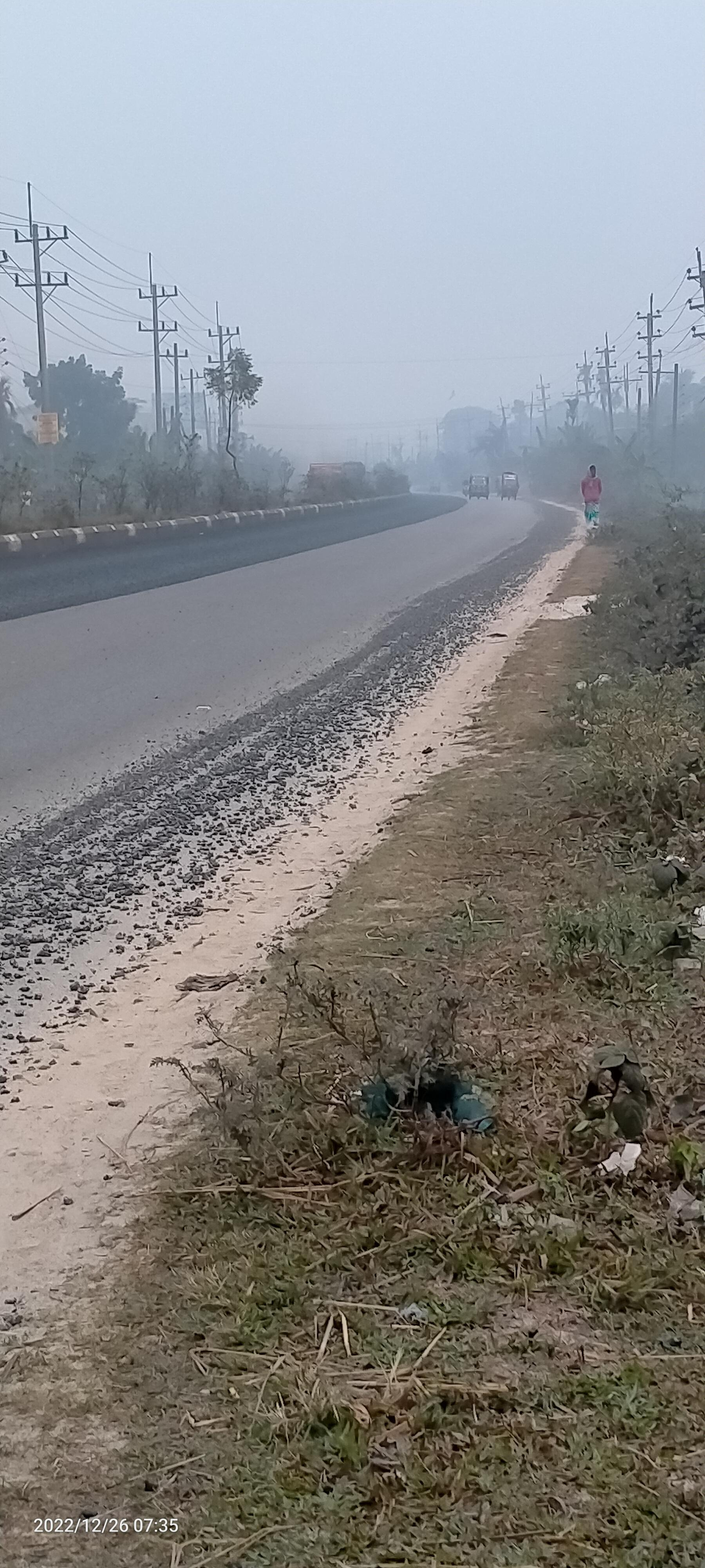Car: (495, 468, 527, 510)
